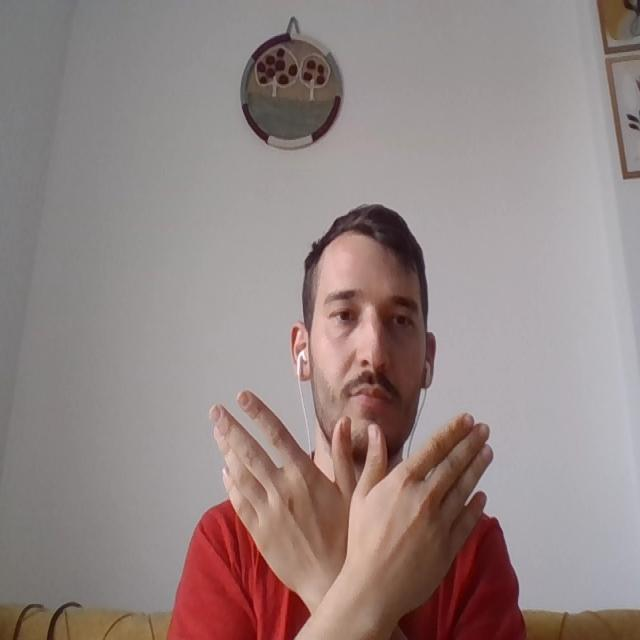thanks: (223, 412, 489, 612)
